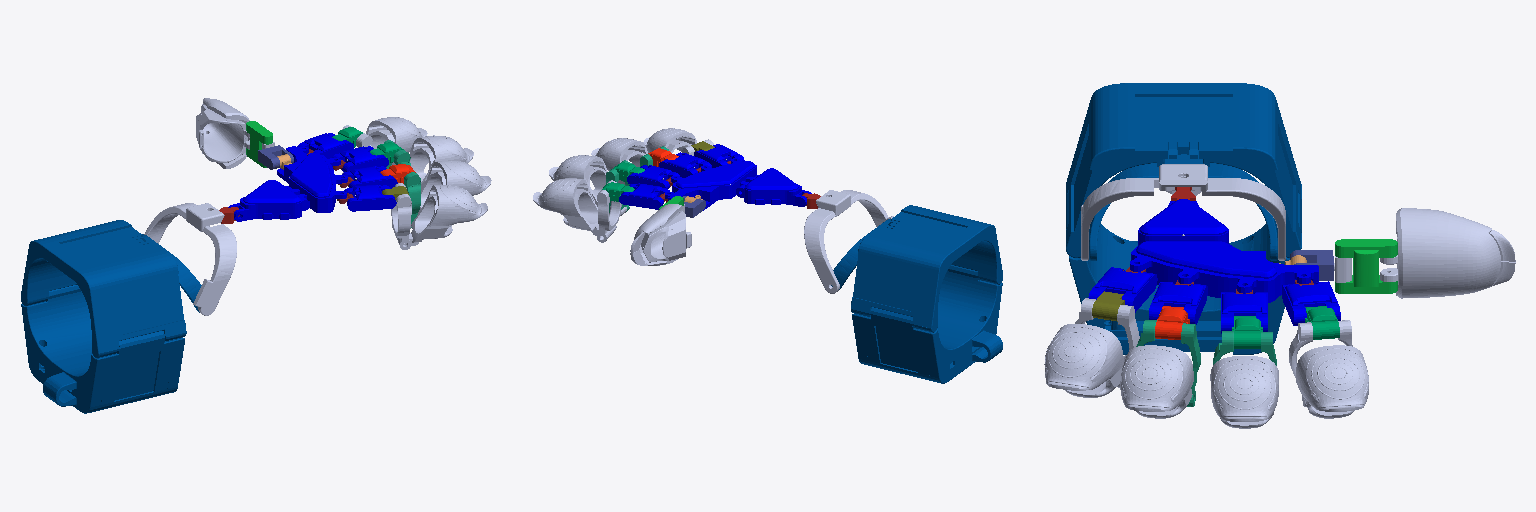
--- Facts derived from the render (not from the file) ---
3 views of the same robot in one strip: view 1: azimuth 30°, elevation 25°; view 2: azimuth 150°, elevation 25°; view 3: azimuth 270°, elevation 25° (orthographic).
Robot: exoskeleton_hand_left_description — 45 links, 44 joints (29 revolute, 15 fixed); root link base_link; default pose: all joints at 0.
Visible links, largest first — view 1: base_link, J1L, M5L, J4L, X5L, J3L, Z5L, W5L, S5L, X2L, X4L, Z2L (+4 smaller); view 2: base_link, J1L, M5L, J4L, S5L, J3L, Z5L, W5L, X5L, S2L, S4L, Z2L (+2 smaller); view 3: base_link, M5L, J4L, J1L, X5L, W5L, S5L, Z5L, J3L, M4L, X2L, S2L (+11 smaller).
Boxes of the visible links, x1,y1,x2,y2 form: base_link: [21, 220, 201, 413]; J1L: [144, 203, 236, 315]; M5L: [196, 98, 249, 168]; J4L: [277, 146, 347, 212]; X5L: [396, 185, 487, 245]; J3L: [228, 180, 309, 221]; Z5L: [410, 135, 473, 190]; W5L: [418, 160, 491, 213]; S5L: [366, 117, 427, 165]; X2L: [344, 185, 396, 211]; X4L: [391, 183, 411, 249]; Z2L: [332, 146, 388, 171]; base_link: [831, 205, 1002, 383]; J1L: [804, 190, 893, 293]; M5L: [630, 204, 691, 265]; J4L: [665, 158, 756, 210]; S5L: [533, 178, 614, 235]; J3L: [736, 168, 811, 206]; Z5L: [549, 155, 626, 215]; W5L: [591, 138, 647, 184]; X5L: [643, 128, 696, 152]; S2L: [619, 183, 669, 209]; S4L: [597, 180, 621, 242]; Z2L: [627, 165, 679, 188]; base_link: [1066, 83, 1301, 354]; M5L: [1380, 208, 1515, 298]; J4L: [1130, 241, 1318, 302]; J1L: [1081, 164, 1285, 260]; X5L: [1044, 324, 1123, 397]; W5L: [1120, 345, 1193, 418]; S5L: [1296, 345, 1368, 418]; Z5L: [1210, 356, 1278, 428]; J3L: [1138, 199, 1228, 245]; M4L: [1335, 239, 1397, 293]; X2L: [1088, 267, 1157, 312]; S2L: [1282, 281, 1340, 325].
Size in the robot's own frame: 0.2927 by 0.175 by 0.1058 metres.
45 mesh visuals loaded from 45 distinct referenced files (45 binary STL).

robot.urdf — exoskeleton_hand_left_description:
<?xml version="1.0" encoding="utf-8"?>
<!-- This URDF was automatically created by SolidWorks to URDF Exporter! Originally created by Stephen Brawner ([email redacted]) 
     Commit Version: 1.6.0-4-g7f85cfe  Build Version: 1.6.7995.38578
     For more information, please see http://wiki.ros.org/sw_urdf_exporter -->
<robot
  name="exoskeleton_hand_left_description">
  <link
    name="base_link">
    <inertial>
      <origin
        xyz="0.000805221551363783 -0.000203126832027015 0.00455337141349889"
        rpy="0 0 0" />
      <mass
        value="0.0836429227558251" />
      <inertia
        ixx="7.824157815204E-05"
        ixy="-5.75094613024754E-07"
        ixz="3.05072554092112E-07"
        iyy="3.61849301540851E-05"
        iyz="-7.62127565183054E-08"
        izz="9.45954081020133E-05" />
    </inertial>
    <visual>
      <origin
        xyz="0 0 0"
        rpy="0 0 0" />
      <geometry>
        <mesh
          filename="../meshes/base_link.STL" />
      </geometry>
      <material
        name="">
        <color
          rgba="0.0196078431372549 0.380392156862745 0.650980392156863 1" />
      </material>
    </visual>
    <collision>
      <origin
        xyz="0 0 0"
        rpy="0 0 0" />
      <geometry>
        <mesh
          filename="../meshes/base_link.STL" />
      </geometry>
    </collision>
  </link>
  <link
    name="J1L">
    <inertial>
      <origin
        xyz="0.000659716471459751 -0.0292495469008946 -0.0414381963084218"
        rpy="0 0 0" />
      <mass
        value="0.00523987788575644" />
      <inertia
        ixx="4.43216957734597E-06"
        ixy="9.67447329981616E-09"
        ixz="-2.71252520157761E-08"
        iyy="3.53993853713008E-06"
        iyz="7.15638815758224E-08"
        izz="1.00846721929197E-06" />
    </inertial>
    <visual>
      <origin
        xyz="0 0 0"
        rpy="0 0 0" />
      <geometry>
        <mesh
          filename="../meshes/J1L.STL" />
      </geometry>
      <material
        name="">
        <color
          rgba="0.792156862745098 0.819607843137255 0.933333333333333 1" />
      </material>
    </visual>
    <collision>
      <origin
        xyz="0 0 0"
        rpy="0 0 0" />
      <geometry>
        <mesh
          filename="../meshes/J1L.STL" />
      </geometry>
    </collision>
  </link>
  <joint
    name="J1J"
    type="revolute">
    <origin
      xyz="0.04591 -0.038 0.0086285"
      rpy="-1.5708 -0.51793 -3.1416" />
    <parent
      link="base_link" />
    <child
      link="J1L" />
    <axis
      xyz="0 0 1" />
    <limit
      lower="-2.19"
      upper="0.88"
      effort="1"
      velocity="10" />
  </joint>
  <link
    name="J2L">
    <inertial>
      <origin
        xyz="-0.00969163636227988 7.06906755354453E-13 0.000726580269500716"
        rpy="0 0 0" />
      <mass
        value="0.000665674173311471" />
      <inertia
        ixx="4.60902259199855E-09"
        ixy="-2.72423530854089E-18"
        ixz="1.78338124905683E-09"
        iyy="2.16062234209618E-08"
        iyz="-5.82142271000469E-19"
        izz="2.17500658876535E-08" />
    </inertial>
    <visual>
      <origin
        xyz="0 0 0"
        rpy="0 0 0" />
      <geometry>
        <mesh
          filename="../meshes/J2L.STL" />
      </geometry>
      <material
        name="">
        <color
          rgba="0.67843137254902 0.192156862745098 0.164705882352941 1" />
      </material>
    </visual>
    <collision>
      <origin
        xyz="0 0 0"
        rpy="0 0 0" />
      <geometry>
        <mesh
          filename="../meshes/J2L.STL" />
      </geometry>
    </collision>
  </link>
  <joint
    name="J2J"
    type="revolute">
    <origin
      xyz="-0.002758 -0.041636 -0.038"
      rpy="-1.5708 0 0.51793" />
    <parent
      link="J1L" />
    <child
      link="J2L" />
    <axis
      xyz="0 0 1" />
    <limit
      lower="-0.79"
      upper="0.79"
      effort="1"
      velocity="10" />
  </joint>
  <link
    name="J3L">
    <inertial>
      <origin
        xyz="0.00217039808161508 -0.0230204861875528 -0.00524187762265999"
        rpy="0 0 0" />
      <mass
        value="0.00360059007040258" />
      <inertia
        ixx="7.03089650329488E-07"
        ixy="-4.45759998827482E-09"
        ixz="-1.88338638558823E-09"
        iyy="2.96822655504856E-07"
        iyz="-3.05858171748258E-08"
        izz="4.34972845206618E-07" />
    </inertial>
    <visual>
      <origin
        xyz="0 0 0"
        rpy="0 0 0" />
      <geometry>
        <mesh
          filename="../meshes/J3L.STL" />
      </geometry>
      <material
        name="">
        <color
          rgba="0 0 1 1" />
      </material>
    </visual>
    <collision>
      <origin
        xyz="0 0 0"
        rpy="0 0 0" />
      <geometry>
        <mesh
          filename="../meshes/J3L.STL" />
      </geometry>
    </collision>
  </link>
  <joint
    name="J3J"
    type="revolute">
    <origin
      xyz="-0.0167 -0.005 0.00105"
      rpy="1.5708 1.5708 0" />
    <parent
      link="J2L" />
    <child
      link="J3L" />
    <axis
      xyz="0 0 1" />
    <limit
      lower="-1.57"
      upper="1.75"
      effort="1"
      velocity="10" />
  </joint>
  <link
    name="J4L">
    <inertial>
      <origin
        xyz="0.00218337876006874 -0.0185080748747818 -0.0116552042477834"
        rpy="0 0 0" />
      <mass
        value="0.00694221029288469" />
      <inertia
        ixx="2.80741911922172E-06"
        ixy="2.95242542211158E-08"
        ixz="1.35629825840351E-08"
        iyy="2.26627590203894E-06"
        iyz="-5.9114845892185E-07"
        izz="6.18399571273617E-07" />
    </inertial>
    <visual>
      <origin
        xyz="0 0 0"
        rpy="0 0 0" />
      <geometry>
        <mesh
          filename="../meshes/J4L.STL" />
      </geometry>
      <material
        name="">
        <color
          rgba="0 0 1 1" />
      </material>
    </visual>
    <collision>
      <origin
        xyz="0 0 0"
        rpy="0 0 0" />
      <geometry>
        <mesh
          filename="../meshes/J4L.STL" />
      </geometry>
    </collision>
  </link>
  <joint
    name="J4J"
    type="revolute">
    <origin
      xyz="0 -0.039 -0.007"
      rpy="0 0 0" />
    <parent
      link="J3L" />
    <child
      link="J4L" />
    <axis
      xyz="0 0 1" />
    <limit
      lower="-1.75"
      upper="1.40"
      effort="1"
      velocity="10" />
  </joint>
  <link
    name="M1L">
    <inertial>
      <origin
        xyz="-1.04083408558608E-17 -0.00588868804818513 -0.00145968768225451"
        rpy="0 0 0" />
      <mass
        value="0.00032875268728627" />
      <inertia
        ixx="5.06081646070671E-09"
        ixy="2.77880987029533E-25"
        ixz="-4.45628281761526E-24"
        iyy="2.05452795483644E-09"
        iyz="6.77436989929359E-10"
        izz="5.26063617487196E-09" />
    </inertial>
    <visual>
      <origin
        xyz="0 0 0"
        rpy="0 0 0" />
      <geometry>
        <mesh
          filename="../meshes/M1L.STL" />
      </geometry>
      <material
        name="">
        <color
          rgba="0.890196078431372 0.666666666666667 0.458823529411765 1" />
      </material>
    </visual>
    <collision>
      <origin
        xyz="0 0 0"
        rpy="0 0 0" />
      <geometry>
        <mesh
          filename="../meshes/M1L.STL" />
      </geometry>
    </collision>
  </link>
  <joint
    name="M1J"
    type="revolute">
    <origin
      xyz="0.00325 -0.016022 -0.03273"
      rpy="1.5708 -0.01098 1.5708" />
    <parent
      link="J4L" />
    <child
      link="M1L" />
    <axis
      xyz="0 0 1" />
    <limit
      lower="-0.04"
      upper="1.33"
      effort="1"
      velocity="10" />
  </joint>
  <link
    name="M2L">
    <inertial>
      <origin
        xyz="-0.000274618260733528 0.00739810976533682 -0.0010520966349843"
        rpy="0 0 0" />
      <mass
        value="0.000681227120644137" />
      <inertia
        ixx="2.4782086838642E-08"
        ixy="7.32202122579262E-11"
        ixz="-9.05972595216363E-10"
        iyy="1.57783103937487E-08"
        iyz="5.32656811887178E-10"
        izz="1.3737664635743E-08" />
    </inertial>
    <visual>
      <origin
        xyz="0 0 0"
        rpy="0 0 0" />
      <geometry>
        <mesh
          filename="../meshes/M2L.STL" />
      </geometry>
      <material
        name="">
        <color
          rgba="0.329411764705882 0.372549019607843 0.643137254901961 1" />
      </material>
    </visual>
    <collision>
      <origin
        xyz="0 0 0"
        rpy="0 0 0" />
      <geometry>
        <mesh
          filename="../meshes/M2L.STL" />
      </geometry>
    </collision>
  </link>
  <joint
    name="M2J"
    type="revolute">
    <origin
      xyz="0 -0.008 -0.001"
      rpy="3.1416 1.5708 0" />
    <parent
      link="M1L" />
    <child
      link="M2L" />
    <axis
      xyz="0 0 1" />
    <limit
      lower="-0.37"
      upper="1.75"
      effort="1"
      velocity="10" />
  </joint>
  <link
    name="M3L">
    <inertial>
      <origin
        xyz="-6.07826289300561E-13 -3.83537739762074E-10 -0.007390676183583"
        rpy="0 0 0" />
      <mass
        value="0.000371641775770827" />
      <inertia
        ixx="2.93951734178623E-09"
        ixy="-3.16507267085592E-16"
        ixz="2.97354328769301E-18"
        iyy="4.74008117288893E-09"
        iyz="1.23288066468958E-16"
        izz="4.1119812766688E-09" />
    </inertial>
    <visual>
      <origin
        xyz="0 0 0"
        rpy="0 0 0" />
      <geometry>
        <mesh
          filename="../meshes/M3L.STL" />
      </geometry>
      <material
        name="">
        <color
          rgba="0.792156862745098 0.819607843137255 0.933333333333333 1" />
      </material>
    </visual>
    <collision>
      <origin
        xyz="0 0 0"
        rpy="0 0 0" />
      <geometry>
        <mesh
          filename="../meshes/M3L.STL" />
      </geometry>
    </collision>
  </link>
  <joint
    name="M3J"
    type="revolute">
    <origin
      xyz="0 0.00875 0"
      rpy="-1.5708 0 3.1416" />
    <parent
      link="M2L" />
    <child
      link="M3L" />
    <axis
      xyz="0 0 1" />
    <limit
      lower="-3.14"
      upper="3.14"
      effort="1"
      velocity="10" />
  </joint>
  <link
    name="M4L">
    <inertial>
      <origin
        xyz="0.000701370475396316 -0.00830515701622658 -0.00185354517899243"
        rpy="0 0 0" />
      <mass
        value="0.00113658475517826" />
      <inertia
        ixx="7.91289480910557E-08"
        ixy="-7.32303960020301E-11"
        ixz="-5.07569131712734E-10"
        iyy="4.84396923943905E-08"
        iyz="-2.26947467350478E-10"
        izz="3.85212891677551E-08" />
    </inertial>
    <visual>
      <origin
        xyz="0 0 0"
        rpy="0 0 0" />
      <geometry>
        <mesh
          filename="../meshes/M4L.STL" />
      </geometry>
      <material
        name="">
        <color
          rgba="0.0823529411764706 0.756862745098039 0.329411764705882 1" />
      </material>
    </visual>
    <collision>
      <origin
        xyz="0 0 0"
        rpy="0 0 0" />
      <geometry>
        <mesh
          filename="../meshes/M4L.STL" />
      </geometry>
    </collision>
  </link>
  <joint
    name="M4J"
    type="revolute">
    <origin
      xyz="0 0 -0.008"
      rpy="1.5708 0 -1.5708" />
    <parent
      link="M3L" />
    <child
      link="M4L" />
    <axis
      xyz="0 0 1" />
    <limit
      lower="-1.61"
      upper="1.75"
      effort="1"
      velocity="10" />
  </joint>
  <link
    name="M5L">
    <inertial>
      <origin
        xyz="-0.00664657798591236 -0.0199247509048828 7.97763453122893E-06"
        rpy="0 0 0" />
      <mass
        value="0.007070141644948" />
      <inertia
        ixx="1.35795406476764E-06"
        ixy="-2.25023565119108E-08"
        ixz="7.24898045304053E-11"
        iyy="9.1046420449536E-07"
        iyz="-1.51654011057438E-10"
        izz="9.9416173121175E-07" />
    </inertial>
    <visual>
      <origin
        xyz="0 0 0"
        rpy="0 0 0" />
      <geometry>
        <mesh
          filename="../meshes/M5L.STL" />
      </geometry>
      <material
        name="">
        <color
          rgba="0.792156862745098 0.819607843137255 0.933333333333333 1" />
      </material>
    </visual>
    <collision>
      <origin
        xyz="0 0 0"
        rpy="0 0 0" />
      <geometry>
        <mesh
          filename="../meshes/M5L.STL" />
      </geometry>
    </collision>
  </link>
  <joint
    name="M5J"
    type="revolute">
    <origin
      xyz="0 -0.0168 0"
      rpy="0 0 0" />
    <parent
      link="M4L" />
    <child
      link="M5L" />
    <axis
      xyz="0 0 1" />
    <limit
      lower="-1.35"
      upper="0.95"
      effort="1"
      velocity="10" />
  </joint>
  <link
    name="M6L">
    <inertial>
      <origin
        xyz="0 0 -3.46944695195361E-18"
        rpy="0 0 0" />
      <mass
        value="5.23598775598299E-07" />
      <inertia
        ixx="5.23598775598299E-14"
        ixy="-1.57367094333154E-30"
        ixz="1.37927874214296E-31"
        iyy="5.23598775598299E-14"
        iyz="0"
        izz="5.23598775598299E-14" />
    </inertial>
    <visual>
      <origin
        xyz="0 0 0"
        rpy="0 0 0" />
      <geometry>
        <mesh
          filename="../meshes/M6L.STL" />
      </geometry>
      <material
        name="">
        <color
          rgba="0.792156862745098 0.819607843137255 0.933333333333333 1" />
      </material>
    </visual>
    <collision>
      <origin
        xyz="0 0 0"
        rpy="0 0 0" />
      <geometry>
        <mesh
          filename="../meshes/M6L.STL" />
      </geometry>
    </collision>
  </link>
  <joint
    name="M6J"
    type="fixed">
    <origin
      xyz="-0.0030538 -0.0031821 0"
      rpy="-1.1788 -1.5708 -1.9627" />
    <parent
      link="M5L" />
    <child
      link="M6L" />
    <axis
      xyz="0 0 0" />
  </joint>
  <link
    name="M42L">
    <inertial>
      <origin
        xyz="-8.67361737988404E-19 -1.58636606109805E-05 -3.46944695195361E-18"
        rpy="0 0 0" />
      <mass
        value="1.32197312466455E-07" />
      <inertia
        ixx="1.1896164179752E-14"
        ixy="-9.79961358815935E-32"
        ixz="-1.49821478128011E-33"
        iyy="2.80976814867147E-15"
        iyz="1.85197423452277E-30"
        izz="1.1896164179752E-14" />
    </inertial>
    <visual>
      <origin
        xyz="0 0 0"
        rpy="0 0 0" />
      <geometry>
        <mesh
          filename="../meshes/M42L.STL" />
      </geometry>
      <material
        name="">
        <color
          rgba="0.792156862745098 0.819607843137255 0.933333333333333 1" />
      </material>
    </visual>
    <collision>
      <origin
        xyz="0 0 0"
        rpy="0 0 0" />
      <geometry>
        <mesh
          filename="../meshes/M42L.STL" />
      </geometry>
    </collision>
  </link>
  <joint
    name="M42J"
    type="fixed">
    <origin
      xyz="-0.0030538 -0.019982 0"
      rpy="-1.1788 -1.5708 -1.9627" />
    <parent
      link="M4L" />
    <child
      link="M42L" />
    <axis
      xyz="0 0 0" />
  </joint>
  <link
    name="X1L">
    <inertial>
      <origin
        xyz="0.000928058379230247 -0.00303489602760117 -0.00321239410294143"
        rpy="0 0 0" />
      <mass
        value="0.000192889580114751" />
      <inertia
        ixx="1.6385507322779E-09"
        ixy="1.2968098946389E-10"
        ixz="8.13991434373068E-11"
        iyy="1.25391977875259E-09"
        iyz="-2.66289538893791E-10"
        izz="2.22682127525482E-09" />
    </inertial>
    <visual>
      <origin
        xyz="0 0 0"
        rpy="0 0 0" />
      <geometry>
        <mesh
          filename="../meshes/X1L.STL" />
      </geometry>
      <material
        name="">
        <color
          rgba="0.549019607843137 0.192156862745098 0.223529411764706 1" />
      </material>
    </visual>
    <collision>
      <origin
        xyz="0 0 0"
        rpy="0 0 0" />
      <geometry>
        <mesh
          filename="../meshes/X1L.STL" />
      </geometry>
    </collision>
  </link>
  <joint
    name="X1J"
    type="revolute">
    <origin
      xyz="0.00455 -0.01975 0.019271"
      rpy="-1.5708 0.92502 -1.5708" />
    <parent
      link="J4L" />
    <child
      link="X1L" />
    <axis
      xyz="0 0 1" />
    <limit
      lower="-1.05"
      upper="0.35"
      effort="1"
      velocity="10" />
  </joint>
  <link
    name="X2L">
    <inertial>
      <origin
        xyz="-0.00108294911521158 0.00976227533454086 -0.000518169128570278"
        rpy="0 0 0" />
      <mass
        value="0.00105740438593977" />
      <inertia
        ixx="7.91049584638445E-08"
        ixy="-1.38511918724442E-10"
        ixz="-2.56077906990349E-10"
        iyy="3.49125812670758E-08"
        iyz="5.41116028254959E-10"
        izz="5.06366339331311E-08" />
    </inertial>
    <visual>
      <origin
        xyz="0 0 0"
        rpy="0 0 0" />
      <geometry>
        <mesh
          filename="../meshes/X2L.STL" />
      </geometry>
      <material
        name="">
        <color
          rgba="0 0 1 1" />
      </material>
    </visual>
    <collision>
      <origin
        xyz="0 0 0"
        rpy="0 0 0" />
      <geometry>
        <mesh
          filename="../meshes/X2L.STL" />
      </geometry>
    </collision>
  </link>
  <joint
    name="X2J"
    type="revolute">
    <origin
      xyz="0.0014619 -0.0047815 -0.0033"
      rpy="2.8449 1.5708 0" />
    <parent
      link="X1L" />
    <child
      link="X2L" />
    <axis
      xyz="0 0 1" />
    <limit
      lower="0"
      upper="1.57"
      effort="1"
      velocity="10" />
  </joint>
  <link
    name="X3L">
    <inertial>
      <origin
        xyz="-4.41314658731892E-05 -0.0047429368738238 -0.000732715054827998"
        rpy="0 0 0" />
      <mass
        value="0.000679787071310123" />
      <inertia
        ixx="1.78102270689666E-08"
        ixy="1.25136798738182E-11"
        ixz="2.27314518952799E-11"
        iyy="7.85291963347768E-09"
        iyz="-1.210008260355E-09"
        izz="1.43555075661368E-08" />
    </inertial>
    <visual>
      <origin
        xyz="0 0 0"
        rpy="0 0 0" />
      <geometry>
        <mesh
          filename="../meshes/X3L.STL" />
      </geometry>
      <material
        name="">
        <color
          rgba="0.470588235294118 0.490196078431373 0.184313725490196 1" />
      </material>
    </visual>
    <collision>
      <origin
        xyz="0 0 0"
        rpy="0 0 0" />
      <geometry>
        <mesh
          filename="../meshes/X3L.STL" />
      </geometry>
    </collision>
  </link>
  <joint
    name="X3J"
    type="revolute">
    <origin
      xyz="0 0.021 0"
      rpy="0 0 3.1416" />
    <parent
      link="X2L" />
    <child
      link="X3L" />
    <axis
      xyz="0 0 1" />
    <limit
      lower="0"
      upper="1.57"
      effort="1"
      velocity="10" />
  </joint>
  <link
    name="X4L">
    <inertial>
      <origin
        xyz="-0.00104710406207213 -0.014910025786751 -0.0031808357303609"
        rpy="0 0 0" />
      <mass
        value="0.0012084005158588" />
      <inertia
        ixx="1.85510308181085E-07"
        ixy="2.45493362414846E-09"
        ixz="3.19542604111085E-09"
        iyy="7.6250303386834E-08"
        iyz="-5.36048578936684E-09"
        izz="1.1933749683252E-07" />
    </inertial>
    <visual>
      <origin
        xyz="0 0 0"
        rpy="0 0 0" />
      <geometry>
        <mesh
          filename="../meshes/X4L.STL" />
      </geometry>
      <material
        name="">
        <color
          rgba="0.792156862745098 0.819607843137255 0.933333333333333 1" />
      </material>
    </visual>
    <collision>
      <origin
        xyz="0 0 0"
        rpy="0 0 0" />
      <geometry>
        <mesh
          filename="../meshes/X4L.STL" />
      </geometry>
    </collision>
  </link>
  <joint
    name="X4J"
    type="revolute">
    <origin
      xyz="0 -0.0086516 0.001"
      rpy="0 0 -1.5708" />
    <parent
      link="X3L" />
    <child
      link="X4L" />
    <axis
      xyz="0 0 1" />
    <limit
      lower="-0.35"
      upper="1.05"
      effort="1"
      velocity="10" />
  </joint>
  <link
    name="X5L">
    <inertial>
      <origin
        xyz="0.0223360966166688 0.0151385369332038 -0.000693385818856307"
        rpy="0 0 0" />
      <mass
        value="0.00486126177127697" />
      <inertia
        ixx="4.69372522541745E-07"
        ixy="-1.64670004470047E-07"
        ixz="3.42735106237732E-09"
        iyy="6.32717923154693E-07"
        iyz="-7.16366005254866E-09"
        izz="5.62222496443989E-07" />
    </inertial>
    <visual>
      <origin
        xyz="0 0 0"
        rpy="0 0 0" />
      <geometry>
        <mesh
          filename="../meshes/X5L.STL" />
      </geometry>
      <material
        name="">
        <color
          rgba="0.792156862745098 0.819607843137255 0.933333333333333 1" />
      </material>
    </visual>
    <collision>
      <origin
        xyz="0 0 0"
        rpy="0 0 0" />
      <geometry>
        <mesh
          filename="../meshes/X5L.STL" />
      </geometry>
    </collision>
  </link>
  <joint
    name="X5J"
    type="revolute">
    <origin
      xyz="0 -0.026996 -0.00091346"
      rpy="0 0 0" />
    <parent
      link="X4L" />
    <child
      link="X5L" />
    <axis
      xyz="0 0 1" />
    <limit
      lower="-0.25"
      upper="0.46"
      effort="1"
      velocity="10" />
  </joint>
  <link
    name="X6L">
    <inertial>
      <origin
        xyz="1.38777878078145E-17 6.93889390390723E-18 0"
        rpy="0 0 0" />
      <mass
        value="5.23598775598299E-07" />
      <inertia
        ixx="5.23598775598299E-14"
        ixy="3.15544362088405E-30"
        ixz="9.86076131526265E-31"
        iyy="5.23598775598299E-14"
        iyz="-4.93038065763132E-31"
        izz="5.23598775598299E-14" />
    </inertial>
    <visual>
      <origin
        xyz="0 0 0"
        rpy="0 0 0" />
      <geometry>
        <mesh
          filename="../meshes/X6L.STL" />
      </geometry>
      <material
        name="">
        <color
          rgba="0.792156862745098 0.819607843137255 0.933333333333333 1" />
      </material>
    </visual>
    <collision>
      <origin
        xyz="0 0 0"
        rpy="0 0 0" />
      <geometry>
        <mesh
          filename="../meshes/X6L.STL" />
      </geometry>
    </collision>
  </link>
  <joint
    name="X6J"
    type="fixed">
    <origin
      xyz="0.017598 0.023923 -0.0001734"
      rpy="-0.18649 -1.5708 -1.5708" />
    <parent
      link="X5L" />
    <child
      link="X6L" />
    <axis
      xyz="0 0 0" />
  </joint>
  <link
    name="X22L">
    <inertial>
      <origin
        xyz="-1.38777878078145E-17 1.58636606109874E-05 0"
        rpy="0 0 0" />
      <mass
        value="1.32197312466454E-07" />
      <inertia
        ixx="1.18961641797519E-14"
        ixy="-4.04291213925769E-30"
        ixz="5.13254758158189E-32"
        iyy="2.80976814867145E-15"
        iyz="8.98747009639548E-31"
        izz="1.18961641797519E-14" />
    </inertial>
    <visual>
      <origin
        xyz="0 0 0"
        rpy="0 0 0" />
      <geometry>
        <mesh
          filename="../meshes/X22L.STL" />
      </geometry>
      <material
        name="">
        <color
          rgba="0.792156862745098 0.819607843137255 0.933333333333333 1" />
      </material>
    </visual>
    <collision>
      <origin
        xyz="0 0 0"
        rpy="0 0 0" />
      <geometry>
        <mesh
          filename="../meshes/X22L.STL" />
      </geometry>
    </collision>
  </link>
  <joint
    name="X22J"
    type="fixed">
    <origin
      xyz="-0.00205 0.003 -0.00075"
      rpy="0 -1.5708 0" />
    <parent
      link="X2L" />
    <child
      link="X22L" />
    <axis
      xyz="0 0 0" />
  </joint>
  <link
    name="S1L">
    <inertial>
      <origin
        xyz="-1.93176195376977E-07 0.00317362475913226 -0.000512394182245606"
        rpy="0 0 0" />
      <mass
        value="0.000192889809744797" />
      <inertia
        ixx="1.67818874494965E-09"
        ixy="-3.14529704848426E-14"
        ixz="1.26435606451291E-14"
        iyy="1.21428069187885E-09"
        iyz="2.78453175157075E-10"
        izz="2.22681989879737E-09" />
    </inertial>
    <visual>
      <origin
        xyz="0 0 0"
        rpy="0 0 0" />
      <geometry>
        <mesh
          filename="../meshes/S1L.STL" />
      </geometry>
      <material
        name="">
        <color
          rgba="0.549019607843137 0.192156862745098 0.223529411764706 1" />
      </material>
    </visual>
    <collision>
      <origin
        xyz="0 0 0"
        rpy="0 0 0" />
      <geometry>
        <mesh
          filename="../meshes/S1L.STL" />
      </geometry>
    </collision>
  </link>
  <joint
    name="S1J"
    type="revolute">
    <origin
      xyz="0.00185 -0.03075 -0.042729"
      rpy="-1.5708 -1.3963 -1.5708" />
    <parent
      link="J4L" />
    <child
      link="S1L" />
    <axis
      xyz="0 0 1" />
    <limit
      lower="-0.18"
      upper="0.53"
      effort="1"
      velocity="10" />
  </joint>
  <link
    name="S2L">
    <inertial>
      <origin
        xyz="-0.00108294918000159 0.00976228660475355 -0.000518154515090543"
        rpy="0 0 0" />
      <mass
        value="0.00105740722614887" />
      <inertia
        ixx="7.91052755045559E-08"
        ixy="-1.38392616820594E-10"
        ixz="-2.56023682469989E-10"
        iyy="3.49127292323202E-08"
        iyz="5.40967972474852E-10"
        izz="5.06368382565425E-08" />
    </inertial>
    <visual>
      <origin
        xyz="0 0 0"
        rpy="0 0 0" />
      <geometry>
        <mesh
          filename="../meshes/S2L.STL" />
      </geometry>
      <material
        name="">
        <color
          rgba="0 0 1 1" />
      </material>
    </visual>
    <collision>
      <origin
        xyz="0 0 0"
        rpy="0 0 0" />
      <geometry>
        <mesh
          filename="../meshes/S2L.STL" />
      </geometry>
    </collision>
  </link>
  <joint
    name="S2J"
    type="revolute">
    <origin
      xyz="0 0.005 -0.0006"
      rpy="0 1.5708 0" />
    <parent
      link="S1L" />
    <child
      link="S2L" />
    <axis
      xyz="0 0 1" />
    <limit
      lower="0"
      upper="1.57"
      effort="1"
      velocity="10" />
  </joint>
  <link
    name="S3L">
    <inertial>
      <origin
        xyz="0.000212511303861778 -0.00807278479517779 -0.000719866556757614"
        rpy="0 0 0" />
      <mass
        value="0.000849709944493745" />
      <inertia
        ixx="3.30731895940746E-08"
        ixy="6.20657462251141E-10"
        ixz="-5.65019130019424E-11"
        iyy="1.09798966710797E-08"
        iyz="-1.2625579730997E-09"
        izz="2.74481289258328E-08" />
    </inertial>
    <visual>
      <origin
        xyz="0 0 0"
        rpy="0 0 0" />
      <geometry>
        <mesh
          filename="../meshes/S3L.STL" />
      </geometry>
      <material
        name="">
        <color
          rgba="0.00784313725490196 0.662745098039216 0.450980392156863 1" />
      </material>
    </visual>
    <collision>
      <origin
        xyz="0 0 0"
        rpy="0 0 0" />
      <geometry>
        <mesh
          filename="../meshes/S3L.STL" />
      </geometry>
    </collision>
  </link>
  <joint
    name="S3J"
    type="revolute">
    <origin
      xyz="0 0.021 0"
      rpy="0 0 3.1416" />
    <parent
      link="S2L" />
    <child
      link="S3L" />
    <axis
      xyz="0 0 1" />
    <limit
      lower="0"
      upper="1.57"
      effort="1"
      velocity="10" />
  </joint>
  <link
    name="S4L">
    <inertial>
      <origin
        xyz="-0.00104710168294555 -0.0149100329064027 -0.0031808368529447"
        rpy="0 0 0" />
      <mass
        value="0.00120839971513856" />
      <inertia
        ixx="1.85510246398419E-07"
        ixy="2.45494142951087E-09"
        ixz="3.19541498685634E-09"
        iyy="7.62502405678395E-08"
        iyz="-5.3605398510969E-09"
        izz="1.19337513677125E-07" />
    </inertial>
    <visual>
      <origin
        xyz="0 0 0"
        rpy="0 0 0" />
      <geometry>
        <mesh
          filename="../meshes/S4L.STL" />
      </geometry>
      <material
        name="">
        <color
          rgba="0.792156862745098 0.819607843137255 0.933333333333333 1" />
      </material>
    </visual>
    <collision>
      <origin
        xyz="0 0 0"
        rpy="0 0 0" />
      <geometry>
        <mesh
          filename="../meshes/S4L.STL" />
      </geometry>
    </collision>
  </link>
  <joint
    name="S4J"
    type="revolute">
    <origin
      xyz="0 -0.013652 0.001"
      rpy="0 0 -1.5708" />
    <parent
      link="S3L" />
    <child
      link="S4L" />
    <axis
      xyz="0 0 1" />
    <limit
      lower="-0.7"
      upper="2.01"
      effort="1"
      velocity="10" />
  </joint>
  <link
    name="S5L">
    <inertial>
      <origin
        xyz="0.0217033836013977 0.0161966633721624 -0.000690124149697054"
        rpy="0 0 0" />
      <mass
        value="0.00490185783066484" />
      <inertia
        ixx="4.86332377254047E-07"
        ixy="-1.70423213654908E-07"
        ixz="3.65079054536456E-09"
        iyy="6.20392757535418E-07"
        iyz="-6.71897042614665E-09"
        izz="5.6529696895089E-07" />
    </inertial>
    <visual>
      <origin
        xyz="0 0 0"
        rpy="0 0 0" />
      <geometry>
        <mesh
          filename="../meshes/S5L.STL" />
      </geometry>
      <material
        name="">
        <color
          rgba="0.792156862745098 0.819607843137255 0.933333333333333 1" />
      </material>
    </visual>
    <collision>
      <origin
        xyz="0 0 0"
        rpy="0 0 0" />
      <geometry>
        <mesh
          filename="../meshes/S5L.STL" />
      </geometry>
    </collision>
  </link>
  <joint
    name="S5J"
    type="revolute">
    <origin
      xyz="0 -0.026996 -0.00091346"
      rpy="0 0 -0.046275" />
    <parent
      link="S4L" />
    <child
      link="S5L" />
    <axis
      xyz="0 0 1" />
    <limit
      lower="-0.27"
      upper="0.53"
      effort="1"
      velocity="10" />
  </joint>
  <link
    name="S6L">
    <inertial>
      <origin
        xyz="1.73472347597681E-18 -1.38777878078145E-17 0"
        rpy="0 0 0" />
      <mass
        value="5.23598775598299E-07" />
      <inertia
        ixx="5.23598775598299E-14"
        ixy="0"
        ixz="-1.97215226305253E-31"
        iyy="5.23598775598299E-14"
        iyz="-5.91645678915759E-31"
        izz="5.23598775598299E-14" />
    </inertial>
    <visual>
      <origin
        xyz="0 0 0"
        rpy="0 0 0" />
      <geometry>
        <mesh
          filename="../meshes/S6L.STL" />
      </geometry>
      <material
        name="">
        <color
          rgba="0.792156862745098 0.819607843137255 0.933333333333333 1" />
      </material>
    </visual>
    <collision>
      <origin
        xyz="0 0 0"
        rpy="0 0 0" />
      <geometry>
        <mesh
          filename="../meshes/S6L.STL" />
      </geometry>
    </collision>
  </link>
  <joint
    name="S6J"
    type="fixed">
    <origin
      xyz="0.016472 0.024711 -0.0001734"
      rpy="-0.18649 -1.5708 -1.5708" />
    <parent
      link="S5L" />
    <child
      link="S6L" />
    <axis
      xyz="0 0 0" />
  </joint>
  <link
    name="S32L">
    <inertial>
      <origin
        xyz="4.33680868994202E-19 1.58636606109819E-05 -4.33680868994202E-19"
        rpy="0 0 0" />
      <mass
        value="1.32197312466454E-07" />
      <inertia
        ixx="1.18961641797519E-14"
        ixy="2.16936748935778E-30"
        ixz="7.74406150523073E-32"
        iyy="2.80976814867145E-15"
        iyz="5.86033629623425E-31"
        izz="1.18961641797519E-14" />
    </inertial>
    <visual>
      <origin
        xyz="0 0 0"
        rpy="0 0 0" />
      <geometry>
        <mesh
          filename="../meshes/S32L.STL" />
      </geometry>
      <material
        name="">
        <color
          rgba="0.792156862745098 0.819607843137255 0.933333333333333 1" />
      </material>
    </visual>
    <collision>
      <origin
        xyz="0 0 0"
        rpy="0 0 0" />
      <geometry>
        <mesh
          filename="../meshes/S32L.STL" />
      </geometry>
    </collision>
  </link>
  <joint
    name="S32J"
    type="fixed">
    <origin
      xyz="0.00205 0.018 -0.00075"
      rpy="3.1416 -1.5708 0" />
    <parent
      link="S3L" />
    <child
      link="S32L" />
    <axis
      xyz="0 0 0" />
  </joint>
  <link
    name="S22L">
    <inertial>
      <origin
        xyz="0 0 4.33680868994202E-19"
        rpy="0 0 0" />
      <mass
        value="5.235987755983E-07" />
      <inertia
        ixx="5.23598775598301E-14"
        ixy="3.15544362088405E-30"
        ixz="2.79658571253974E-32"
        iyy="5.23598775598301E-14"
        iyz="-3.12389489794449E-32"
        izz="5.23598775598301E-14" />
    </inertial>
    <visual>
      <origin
        xyz="0 0 0"
        rpy="0 0 0" />
      <geometry>
        <mesh
          filename="../meshes/S22L.STL" />
      </geometry>
      <material
        name="">
        <color
          rgba="0.792156862745098 0.819607843137255 0.933333333333333 1" />
      </material>
    </visual>
    <collision>
      <origin
        xyz="0 0 0"
        rpy="0 0 0" />
      <geometry>
        <mesh
          filename="../meshes/S22L.STL" />
      </geometry>
    </collision>
  </link>
  <joint
    name="S22J"
    type="fixed">
    <origin
      xyz="-0.00205 0.003 -0.00075"
      rpy="0 -1.5708 0" />
    <parent
      link="S2L" />
    <child
      link="S22L" />
    <axis
      xyz="0 0 0" />
  </joint>
  <link
    name="Z1L">
    <inertial>
      <origin
        xyz="0.00071409599782931 -0.00309224228233989 -0.00321239383977921"
        rpy="0 0 0" />
      <mass
        value="0.000192889962050809" />
      <inertia
        ixx="1.65472720964021E-09"
        ixy="1.01653678078336E-10"
        ixz="6.26257018134449E-11"
        iyy="1.2377414297725E-09"
        iyz="-2.7131958750802E-10"
        izz="2.22681916180581E-09" />
    </inertial>
    <visual>
      <origin
        xyz="0 0 0"
        rpy="0 0 0" />
      <geometry>
        <mesh
          filename="../meshes/Z1L.STL" />
      </geometry>
      <material
        name="">
        <color
          rgba="0.549019607843137 0.192156862745098 0.223529411764706 1" />
      </material>
    </visual>
    <collision>
      <origin
        xyz="0 0 0"
        rpy="0 0 0" />
      <geometry>
        <mesh
          filename="../meshes/Z1L.STL" />
      </geometry>
    </collision>
  </link>
  <joint
    name="Z1J"
    type="revolute">
    <origin
      xyz="0.00455 -0.03875 -0.020729"
      rpy="-1.5708 1.3439 -1.5708" />
    <parent
      link="J4L" />
    <child
      link="Z1L" />
    <axis
      xyz="0 0 1" />
    <limit
      lower="-0.18"
      upper="0.53"
      effort="1"
      velocity="10" />
  </joint>
  <link
    name="Z2L">
    <inertial>
      <origin
        xyz="-0.00108294964942651 0.00976229003934825 -0.000518154364704888"
        rpy="0 0 0" />
      <mass
        value="0.00105740703435151" />
      <inertia
        ixx="7.91052707862228E-08"
        ixy="-1.38397543924976E-10"
        ixz="-2.56023799401275E-10"
        iyy="3.4912725372486E-08"
        iyz="5.40975211714487E-10"
        izz="5.06368399764381E-08" />
    </inertial>
    <visual>
      <origin
        xyz="0 0 0"
        rpy="0 0 0" />
      <geometry>
        <mesh
          filename="../meshes/Z2L.STL" />
      </geometry>
      <material
        name="">
        <color
          rgba="0 0 1 1" />
      </material>
    </visual>
    <collision>
      <origin
        xyz="0 0 0"
        rpy="0 0 0" />
      <geometry>
        <mesh
          filename="../meshes/Z2L.STL" />
      </geometry>
    </collision>
  </link>
  <joint
    name="Z2J"
    type="revolute">
    <origin
      xyz="0.0011248 -0.0048719 -0.0033"
      rpy="2.9147 1.5708 0" />
    <parent
      link="Z1L" />
    <child
      link="Z2L" />
    <axis
      xyz="0 0 1" />
    <limit
      lower="0"
      upper="1.57"
      effort="1"
      velocity="10" />
  </joint>
  <link
    name="Z3L">
    <inertial>
      <origin
        xyz="0.000212511479097244 -0.008072784878094 -0.000719866721809209"
        rpy="0 0 0" />
      <mass
        value="0.00084970997071266" />
      <inertia
        ixx="3.3073189759747E-08"
        ixy="6.20657581317536E-10"
        ixz="-5.65019217869252E-11"
        iyy="1.09798967940944E-08"
        iyz="-1.26255827889303E-09"
        izz="2.74481289874577E-08" />
    </inertial>
    <visual>
      <origin
        xyz="0 0 0"
        rpy="0 0 0" />
      <geometry>
        <mesh
          filename="../meshes/Z3L.STL" />
      </geometry>
      <material
        name="">
        <color
          rgba="0.00784313725490196 0.662745098039216 0.450980392156863 1" />
      </material>
    </visual>
    <collision>
      <origin
        xyz="0 0 0"
        rpy="0 0 0" />
      <geometry>
        <mesh
          filename="../meshes/Z3L.STL" />
      </geometry>
    </collision>
  </link>
  <joint
    name="Z3J"
    type="revolute">
    <origin
      xyz="0 0.021 0"
      rpy="0 0 -3.1416" />
    <parent
      link="Z2L" />
    <child
      link="Z3L" />
    <axis
      xyz="0 0 1" />
    <limit
      lower="0"
      upper="1.66"
      effort="1"
      velocity="10" />
  </joint>
  <link
    name="Z4L">
    <inertial>
      <origin
        xyz="-0.000929762480375622 -0.0150944440115034 -0.00299948915094383"
        rpy="0 0 0" />
      <mass
        value="0.00125595152024745" />
      <inertia
        ixx="1.91678946520743E-07"
        ixy="1.93790481296153E-09"
        ixz="2.45499405047668E-09"
        iyy="8.11241626957883E-08"
        iyz="-5.70859481469153E-09"
        izz="1.21734264890699E-07" />
    </inertial>
    <visual>
      <origin
        xyz="0 0 0"
        rpy="0 0 0" />
      <geometry>
        <mesh
          filename="../meshes/Z4L.STL" />
      </geometry>
      <material
        name="">
        <color
          rgba="0.152941176470588 0.658823529411765 0.537254901960784 1" />
      </material>
    </visual>
    <collision>
      <origin
        xyz="0 0 0"
        rpy="0 0 0" />
      <geometry>
        <mesh
          filename="../meshes/Z4L.STL" />
      </geometry>
    </collision>
  </link>
  <joint
    name="Z4J"
    type="revolute">
    <origin
      xyz="0 -0.013652 0.001"
      rpy="0 0 -1.5708" />
    <parent
      link="Z3L" />
    <child
      link="Z4L" />
    <axis
      xyz="0 0 1" />
    <limit
      lower="-1.05"
      upper="2.38"
      effort="1"
      velocity="10" />
  </joint>
  <link
    name="Z5L">
    <inertial>
      <origin
        xyz="0.0217752417422094 0.0162159870213676 -0.000676050233714795"
        rpy="0 0 0" />
      <mass
        value="0.00492806897970995" />
      <inertia
        ixx="4.87364682066389E-07"
        ixy="-1.69432768944205E-07"
        ixz="3.45598044443848E-09"
        iyy="6.23236965404615E-07"
        iyz="-6.54775879341649E-09"
        izz="5.68078589496837E-07" />
    </inertial>
    <visual>
      <origin
        xyz="0 0 0"
        rpy="0 0 0" />
      <geometry>
        <mesh
          filename="../meshes/Z5L.STL" />
      </geometry>
      <material
        name="">
        <color
          rgba="0.792156862745098 0.819607843137255 0.933333333333333 1" />
      </material>
    </visual>
    <collision>
      <origin
        xyz="0 0 0"
        rpy="0 0 0" />
      <geometry>
        <mesh
          filename="../meshes/Z5L.STL" />
      </geometry>
    </collision>
  </link>
  <joint
    name="Z5J"
    type="revolute">
    <origin
      xyz="0 -0.026996 -0.00091346"
      rpy="0 0 -0.046275" />
    <parent
      link="Z4L" />
    <child
      link="Z5L" />
    <axis
      xyz="0 0 1" />
    <limit
      lower="-0.27"
      upper="0.53"
      effort="1"
      velocity="10" />
  </joint>
  <link
    name="Z6L">
    <inertial>
      <origin
        xyz="0 0 0"
        rpy="0 0 0" />
      <mass
        value="5.23598775598299E-07" />
      <inertia
        ixx="5.23598775598299E-14"
        ixy="-1.72136234635824E-31"
        ixz="2.24207754291971E-44"
        iyy="5.23598775598299E-14"
        iyz="-6.85891807709988E-42"
        izz="5.23598775598299E-14" />
    </inertial>
    <visual>
      <origin
        xyz="0 0 0"
        rpy="0 0 0" />
      <geometry>
        <mesh
          filename="../meshes/Z6L.STL" />
      </geometry>
      <material
        name="">
        <color
          rgba="0.792156862745098 0.819607843137255 0.933333333333333 1" />
      </material>
    </visual>
    <collision>
      <origin
        xyz="0 0 0"
        rpy="0 0 0" />
      <geometry>
        <mesh
          filename="../meshes/Z6L.STL" />
      </geometry>
    </collision>
  </link>
  <joint
    name="Z6J"
    type="fixed">
    <origin
      xyz="0.016472 0.024711 -0.0001734"
      rpy="-0.18649 -1.5708 -1.5708" />
    <parent
      link="Z5L" />
    <child
      link="Z6L" />
    <axis
      xyz="0 0 0" />
  </joint>
  <link
    name="Z32L">
    <inertial>
      <origin
        xyz="0 -1.58636606109814E-05 0"
        rpy="0 0 0" />
      <mass
        value="1.32197312466454E-07" />
      <inertia
        ixx="1.18961641797519E-14"
        ixy="-2.58722159103314E-28"
        ixz="6.94625497931878E-34"
        iyy="2.80976814867145E-15"
        iyz="1.42672890280206E-30"
        izz="1.18961641797519E-14" />
    </inertial>
    <visual>
      <origin
        xyz="0 0 0"
        rpy="0 0 0" />
      <geometry>
        <mesh
          filename="../meshes/Z32L.STL" />
      </geometry>
      <material
        name="">
        <color
          rgba="0.792156862745098 0.819607843137255 0.933333333333333 1" />
      </material>
    </visual>
    <collision>
      <origin
        xyz="0 0 0"
        rpy="0 0 0" />
      <geometry>
        <mesh
          filename="../meshes/Z32L.STL" />
      </geometry>
    </collision>
  </link>
  <joint
    name="Z32J"
    type="fixed">
    <origin
      xyz="0.00205 0.018 -0.00075"
      rpy="1.575 -1.5708 1.5666" />
    <parent
      link="Z3L" />
    <child
      link="Z32L" />
    <axis
      xyz="0 0 0" />
  </joint>
  <link
    name="Z22L">
    <inertial>
      <origin
        xyz="0 0 4.33680868994202E-19"
        rpy="0 0 0" />
      <mass
        value="5.235987755983E-07" />
      <inertia
        ixx="5.23598775598301E-14"
        ixy="8.63125840281822E-31"
        ixz="7.55387453425097E-46"
        iyy="5.23598775598301E-14"
        iyz="-4.93038065763132E-32"
        izz="5.23598775598301E-14" />
    </inertial>
    <visual>
      <origin
        xyz="0 0 0"
        rpy="0 0 0" />
      <geometry>
        <mesh
          filename="../meshes/Z22L.STL" />
      </geometry>
      <material
        name="">
        <color
          rgba="0.792156862745098 0.819607843137255 0.933333333333333 1" />
      </material>
    </visual>
    <collision>
      <origin
        xyz="0 0 0"
        rpy="0 0 0" />
      <geometry>
        <mesh
          filename="../meshes/Z22L.STL" />
      </geometry>
    </collision>
  </link>
  <joint
    name="Z22J"
    type="fixed">
    <origin
      xyz="-0.00205 0.003 -0.00075"
      rpy="-1.5665 -1.5708 1.5665" />
    <parent
      link="Z2L" />
    <child
      link="Z22L" />
    <axis
      xyz="0 0 0" />
  </joint>
  <link
    name="W1L">
    <inertial>
      <origin
        xyz="-1.8898627242997E-07 0.00317362427748581 0.00178760607956504"
        rpy="0 0 0" />
      <mass
        value="0.000192889769820854" />
      <inertia
        ixx="1.67818860479785E-09"
        ixy="-3.12566983494941E-14"
        ixz="1.31661678248054E-14"
        iyy="1.21428101485299E-09"
        iyz="2.78453070071405E-10"
        izz="2.22682029706669E-09" />
    </inertial>
    <visual>
      <origin
        xyz="0 0 0"
        rpy="0 0 0" />
      <geometry>
        <mesh
          filename="../meshes/W1L.STL" />
      </geometry>
      <material
        name="">
        <color
          rgba="0.549019607843137 0.192156862745098 0.223529411764706 1" />
      </material>
    </visual>
    <collision>
      <origin
        xyz="0 0 0"
        rpy="0 0 0" />
      <geometry>
        <mesh
          filename="../meshes/W1L.STL" />
      </geometry>
    </collision>
  </link>
  <joint
    name="W1J"
    type="revolute">
    <origin
      xyz="-0.00045 -0.03075 0.0012714"
      rpy="1.5708 -1.3963 1.5708" />
    <parent
      link="J4L" />
    <child
      link="W1L" />
    <axis
      xyz="0 0 1" />
    <limit
      lower="-0.11"
      upper="0.53"
      effort="1"
      velocity="10" />
  </joint>
  <link
    name="W2L">
    <inertial>
      <origin
        xyz="-0.00108294694162108 0.0097622761745923 -0.000518168510304173"
        rpy="0 0 0" />
      <mass
        value="0.00105740458301381" />
      <inertia
        ixx="7.91050139681637E-08"
        ixy="-1.38451188208741E-10"
        ixz="-2.56071450053332E-10"
        iyy="3.4912593226341E-08"
        iyz="5.4111099671789E-10"
        izz="5.06366759716502E-08" />
    </inertial>
    <visual>
      <origin
        xyz="0 0 0"
        rpy="0 0 0" />
      <geometry>
        <mesh
          filename="../meshes/W2L.STL" />
      </geometry>
      <material
        name="">
        <color
          rgba="0 0 1 1" />
      </material>
    </visual>
    <collision>
      <origin
        xyz="0 0 0"
        rpy="0 0 0" />
      <geometry>
        <mesh
          filename="../meshes/W2L.STL" />
      </geometry>
    </collision>
  </link>
  <joint
    name="W2J"
    type="revolute">
    <origin
      xyz="0 0.005 0.0017"
      rpy="0 1.5708 0" />
    <parent
      link="W1L" />
    <child
      link="W2L" />
    <axis
      xyz="0 0 1" />
    <limit
      lower="0"
      upper="1.61"
      effort="1"
      velocity="10" />
  </joint>
  <link
    name="W3L">
    <inertial>
      <origin
        xyz="0.000212511338079227 -0.00807278485867981 -0.000719866896628271"
        rpy="0 0 0" />
      <mass
        value="0.000849709951426843" />
      <inertia
        ixx="3.30731897089952E-08"
        ixy="6.20657524486326E-10"
        ixz="-5.65019040967352E-11"
        iyy="1.09798967080433E-08"
        iyz="-1.26255854548224E-09"
        izz="2.74481289977095E-08" />
    </inertial>
    <visual>
      <origin
        xyz="0 0 0"
        rpy="0 0 0" />
      <geometry>
        <mesh
          filename="../meshes/W3L.STL" />
      </geometry>
      <material
        name="">
        <color
          rgba="0.996078431372549 0.219607843137255 0.0901960784313725 1" />
      </material>
    </visual>
    <collision>
      <origin
        xyz="0 0 0"
        rpy="0 0 0" />
      <geometry>
        <mesh
          filename="../meshes/W3L.STL" />
      </geometry>
    </collision>
  </link>
  <joint
    name="W3J"
    type="revolute">
    <origin
      xyz="0 0.021 0"
      rpy="0 0 3.1416" />
    <parent
      link="W2L" />
    <child
      link="W3L" />
    <axis
      xyz="0 0 1" />
    <limit
      lower="0"
      upper="1.57"
      effort="1"
      velocity="10" />
  </joint>
  <link
    name="W4L">
    <inertial>
      <origin
        xyz="-0.000929762257222924 -0.0150944554621861 -0.0029994993895579"
        rpy="0 0 0" />
      <mass
        value="0.00125595136878198" />
      <inertia
        ixx="1.91678725404779E-07"
        ixy="1.9379676083756E-09"
        ixz="2.45499040258303E-09"
        iyy="8.11240535086574E-08"
        iyz="-5.70862408892591E-09"
        izz="1.21734151278519E-07" />
    </inertial>
    <visual>
      <origin
        xyz="0 0 0"
        rpy="0 0 0" />
      <geometry>
        <mesh
          filename="../meshes/W4L.STL" />
      </geometry>
      <material
        name="">
        <color
          rgba="0.152941176470588 0.658823529411765 0.537254901960784 1" />
      </material>
    </visual>
    <collision>
      <origin
        xyz="0 0 0"
        rpy="0 0 0" />
      <geometry>
        <mesh
          filename="../meshes/W4L.STL" />
      </geometry>
    </collision>
  </link>
  <joint
    name="W4J"
    type="revolute">
    <origin
      xyz="0 -0.013652 0.001"
      rpy="0 0 -1.5708" />
    <parent
      link="W3L" />
    <child
      link="W4L" />
    <axis
      xyz="0 0 1" />
    <limit
      lower="-0.61"
      upper="1.57"
      effort="1"
      velocity="10" />
  </joint>
  <link
    name="W5L">
    <inertial>
      <origin
        xyz="0.0216786053841346 0.0161781605487496 -0.000683459428696201"
        rpy="0 0 0" />
      <mass
        value="0.00488790022242167" />
      <inertia
        ixx="4.85943632117904E-07"
        ixy="-1.70635871354422E-07"
        ixz="3.61966362240855E-09"
        iyy="6.19644980254771E-07"
        iyz="-6.82280821918902E-09"
        izz="5.64651303047027E-07" />
    </inertial>
    <visual>
      <origin
        xyz="0 0 0"
        rpy="0 0 0" />
      <geometry>
        <mesh
          filename="../meshes/W5L.STL" />
      </geometry>
      <material
        name="">
        <color
          rgba="0.792156862745098 0.819607843137255 0.933333333333333 1" />
      </material>
    </visual>
    <collision>
      <origin
        xyz="0 0 0"
        rpy="0 0 0" />
      <geometry>
        <mesh
          filename="../meshes/W5L.STL" />
      </geometry>
    </collision>
  </link>
  <joint
    name="W5J"
    type="revolute">
    <origin
      xyz="0 -0.026996 -0.00091346"
      rpy="0 0 -0.046275" />
    <parent
      link="W4L" />
    <child
      link="W5L" />
    <axis
      xyz="0 0 1" />
    <limit
      lower="-0.27"
      upper="0.53"
      effort="1"
      velocity="10" />
  </joint>
  <link
    name="W6L">
    <inertial>
      <origin
        xyz="0 6.93889390390723E-18 -1.73472347597681E-18"
        rpy="0 0 0" />
      <mass
        value="5.23598775598299E-07" />
      <inertia
        ixx="5.23598775598299E-14"
        ixy="0"
        ixz="-9.86076131526265E-32"
        iyy="5.23598775598299E-14"
        iyz="1.4791141972894E-30"
        izz="5.23598775598299E-14" />
    </inertial>
    <visual>
      <origin
        xyz="0 0 0"
        rpy="0 0 0" />
      <geometry>
        <mesh
          filename="../meshes/W6L.STL" />
      </geometry>
      <material
        name="">
        <color
          rgba="0.792156862745098 0.819607843137255 0.933333333333333 1" />
      </material>
    </visual>
    <collision>
      <origin
        xyz="0 0 0"
        rpy="0 0 0" />
      <geometry>
        <mesh
          filename="../meshes/W6L.STL" />
      </geometry>
    </collision>
  </link>
  <joint
    name="W6J"
    type="fixed">
    <origin
      xyz="0.016472 0.024711 -0.0001734"
      rpy="1.4791 -1.5708 3.093" />
    <parent
      link="W5L" />
    <child
      link="W6L" />
    <axis
      xyz="0 0 0" />
  </joint>
  <link
    name="W32L">
    <inertial>
      <origin
        xyz="6.93889390390723E-18 -1.5862266505704E-05 2.10307590015578E-07"
        rpy="0 0 0" />
      <mass
        value="1.32197312466454E-07" />
      <inertia
        ixx="1.18961641797519E-14"
        ixy="2.72650050367012E-29"
        ixz="-3.06993233135325E-31"
        iyy="2.81136511123393E-15"
        iyz="1.20449508093963E-16"
        izz="1.18945672171894E-14" />
    </inertial>
    <visual>
      <origin
        xyz="0 0 0"
        rpy="0 0 0" />
      <geometry>
        <mesh
          filename="../meshes/W32L.STL" />
      </geometry>
      <material
        name="">
        <color
          rgba="0.792156862745098 0.819607843137255 0.933333333333333 1" />
      </material>
    </visual>
    <collision>
      <origin
        xyz="0 0 0"
        rpy="0 0 0" />
      <geometry>
        <mesh
          filename="../meshes/W32L.STL" />
      </geometry>
    </collision>
  </link>
  <joint
    name="W32J"
    type="fixed">
    <origin
      xyz="0.00205 0.018 -0.00075"
      rpy="1.575 -1.5708 1.5666" />
    <parent
      link="W3L" />
    <child
      link="W32L" />
    <axis
      xyz="0 0 0" />
  </joint>
  <link
    name="W22L">
    <inertial>
      <origin
        xyz="0 0 4.33680868994202E-19"
        rpy="0 0 0" />
      <mass
        value="5.235987755983E-07" />
      <inertia
        ixx="5.23598775598301E-14"
        ixy="-7.88860905221012E-31"
        ixz="6.77188133076716E-33"
        iyy="5.23598775598302E-14"
        iyz="1.101957327946E-31"
        izz="5.23598775598301E-14" />
    </inertial>
    <visual>
      <origin
        xyz="0 0 0"
        rpy="0 0 0" />
      <geometry>
        <mesh
          filename="../meshes/W22L.STL" />
      </geometry>
      <material
        name="">
        <color
          rgba="0.792156862745098 0.819607843137255 0.933333333333333 1" />
      </material>
    </visual>
    <collision>
      <origin
        xyz="0 0 0"
        rpy="0 0 0" />
      <geometry>
        <mesh
          filename="../meshes/W22L.STL" />
      </geometry>
    </collision>
  </link>
  <joint
    name="W22J"
    type="fixed">
    <origin
      xyz="-0.00205 0.003 -0.00075"
      rpy="0 -1.5708 0" />
    <parent
      link="W2L" />
    <child
      link="W22L" />
    <axis
      xyz="0 0 0" />
  </joint>
  <link
    name="J42L">
    <inertial>
      <origin
        xyz="6.93889390390723E-18 -6.93889390390723E-18 0"
        rpy="0 0 0" />
      <mass
        value="5.23598775598299E-07" />
      <inertia
        ixx="5.23598775598299E-14"
        ixy="-3.15544362088405E-30"
        ixz="1.69554780092689E-30"
        iyy="5.23598775598299E-14"
        iyz="8.66956449758718E-32"
        izz="5.23598775598299E-14" />
    </inertial>
    <visual>
      <origin
        xyz="0 0 0"
        rpy="0 0 0" />
      <geometry>
        <mesh
          filename="../meshes/J42L.STL" />
      </geometry>
      <material
        name="">
        <color
          rgba="0.792156862745098 0.819607843137255 0.933333333333333 1" />
      </material>
    </visual>
    <collision>
      <origin
        xyz="0 0 0"
        rpy="0 0 0" />
      <geometry>
        <mesh
          filename="../meshes/J42L.STL" />
      </geometry>
    </collision>
  </link>
  <joint
    name="J42J"
    type="fixed">
    <origin
      xyz="0.00575 -0.0047123 -0.013251"
      rpy="1.5708 -1.1345 1.5708" />
    <parent
      link="J4L" />
    <child
      link="J42L" />
    <axis
      xyz="0 0 0" />
  </joint>
  <link
    name="J32L">
    <inertial>
      <origin
        xyz="0 6.93889390390723E-18 -4.33680868994202E-19"
        rpy="0 0 0" />
      <mass
        value="5.23598775598299E-07" />
      <inertia
        ixx="5.23598775598299E-14"
        ixy="0"
        ixz="-5.73971850987445E-42"
        iyy="5.23598775598299E-14"
        iyz="1.65397948120363E-39"
        izz="5.23598775598299E-14" />
    </inertial>
    <visual>
      <origin
        xyz="0 0 0"
        rpy="0 0 0" />
      <geometry>
        <mesh
          filename="../meshes/J32L.STL" />
      </geometry>
      <material
        name="">
        <color
          rgba="0.792156862745098 0.819607843137255 0.933333333333333 1" />
      </material>
    </visual>
    <collision>
      <origin
        xyz="0 0 0"
        rpy="0 0 0" />
      <geometry>
        <mesh
          filename="../meshes/J32L.STL" />
      </geometry>
    </collision>
  </link>
  <joint
    name="J32J"
    type="fixed">
    <origin
      xyz="0.00575 -0.0347 -0.005015"
      rpy="0 1.5708 0" />
    <parent
      link="J3L" />
    <child
      link="J32L" />
    <axis
      xyz="0 0 0" />
  </joint>
</robot>
